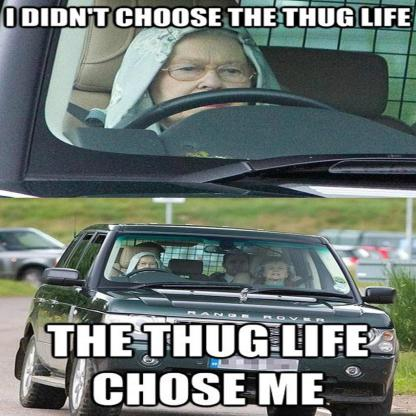face: (153, 33, 252, 127), (226, 252, 251, 279), (264, 260, 290, 281), (137, 256, 162, 277)
